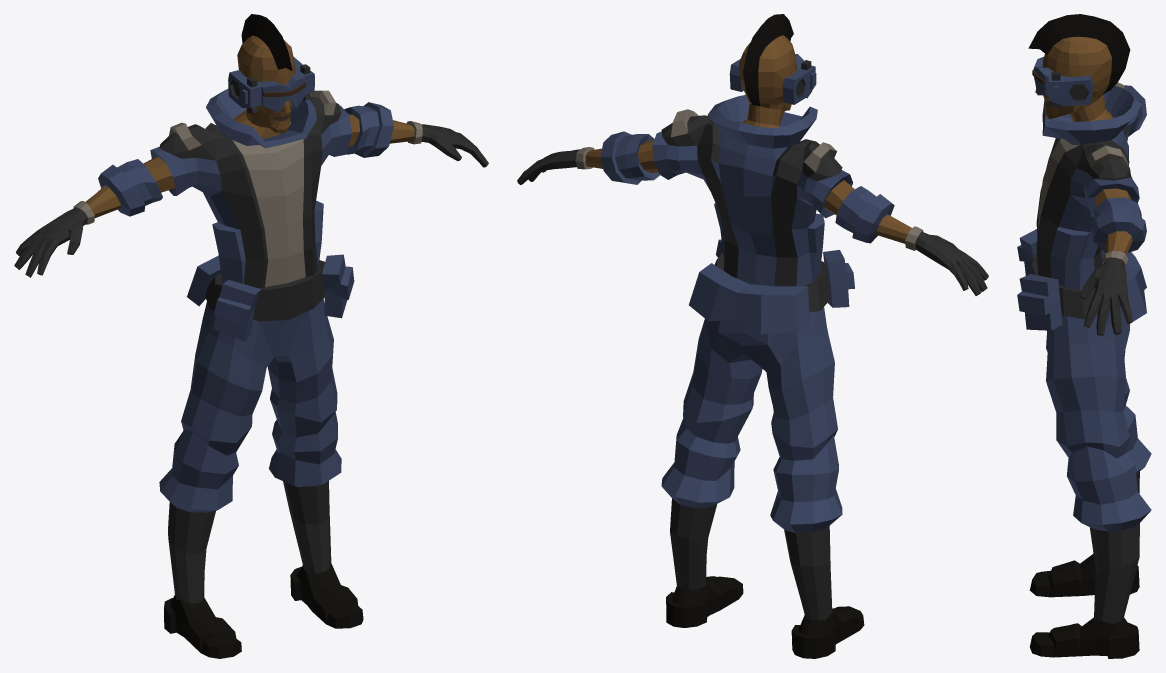
The model's file is Future_M_2.fbx.
The picture shows the model from 3 angles, left to right: view 1: azimuth 30°, elevation 25°; view 2: azimuth 150°, elevation 25°; view 3: azimuth 270°, elevation 25°; orthographic projection.
Parts seen in each view (by area): view 1: Future_M_2, Future_M_2.004, Future_M_2.003, Future_M_2.001, Future_M_2.002; view 2: Future_M_2, Future_M_2.002, Future_M_2.004, Future_M_2.003; view 3: Future_M_2, Future_M_2.001, Future_M_2.004, Future_M_2.002, Future_M_2.003.
Part boxes in pixels (x1,y1,x2,y2): Future_M_2: (14, 14, 488, 658); Future_M_2.004: (228, 56, 314, 113); Future_M_2.003: (214, 280, 260, 341); Future_M_2.001: (322, 254, 354, 318); Future_M_2.002: (187, 255, 220, 306); Future_M_2: (517, 14, 988, 658); Future_M_2.002: (689, 263, 810, 334); Future_M_2.004: (729, 54, 816, 104); Future_M_2.003: (823, 250, 854, 307); Future_M_2: (1028, 14, 1151, 658); Future_M_2.001: (1017, 274, 1062, 330); Future_M_2.004: (1032, 56, 1092, 108); Future_M_2.002: (1104, 251, 1146, 324); Future_M_2.003: (1017, 229, 1037, 275).
Bounding box in the file's own units: 150 × 186 × 37.49.
1 material, 1 textured.
